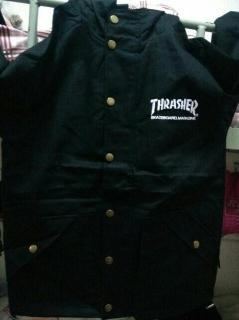long sleeve top: (0, 11, 239, 319)
